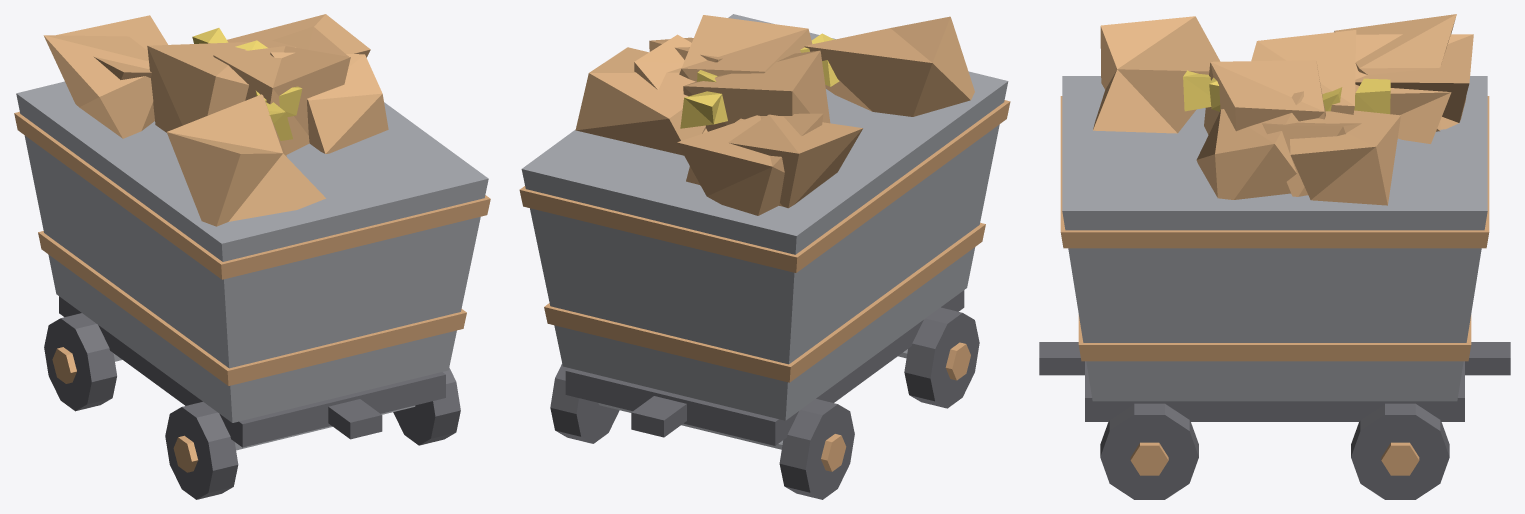
File: mine_cart.glb
3 renders of one model, left to right at view 1: azimuth 30°, elevation 25°; view 2: azimuth 150°, elevation 25°; view 3: azimuth 270°, elevation 25°, orthographic. The views are drawn at different scales.
Visible parts, largest first — view 1: MineCart; view 2: MineCart; view 3: MineCart.
Boxes of the visible parts, bbox=[...] form: MineCart: bbox=[14, 14, 490, 499]; MineCart: bbox=[519, 14, 1010, 499]; MineCart: bbox=[1039, 14, 1510, 499].
Size of the model in its own units: 0.8482 by 1.09 by 1.24.
